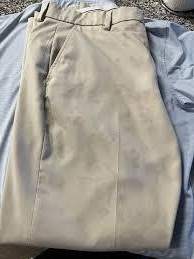oil: (50, 123, 87, 160)
